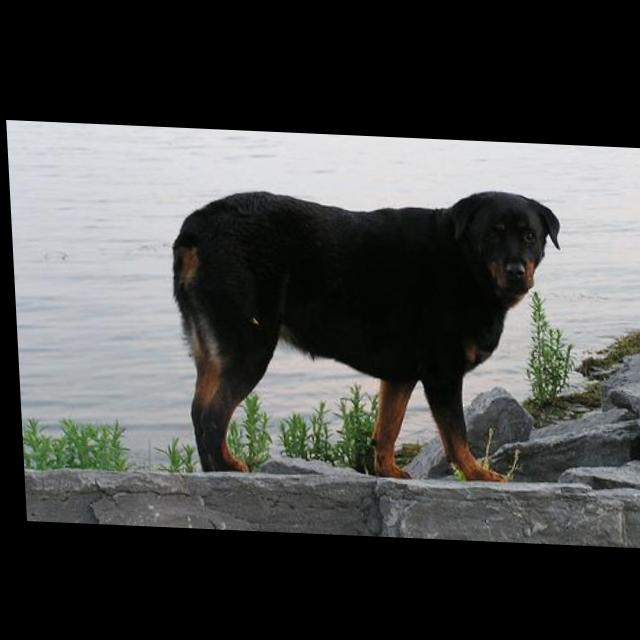rottweiler: (164, 173, 570, 483)
